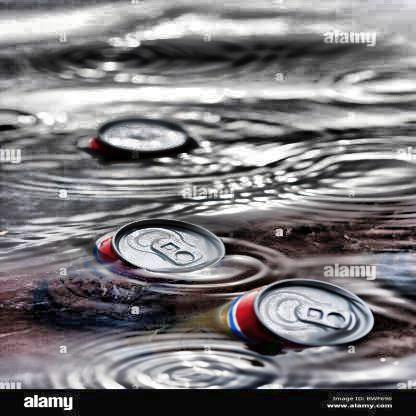Metal: (229, 275, 377, 348), (91, 211, 229, 281), (94, 113, 190, 162)
